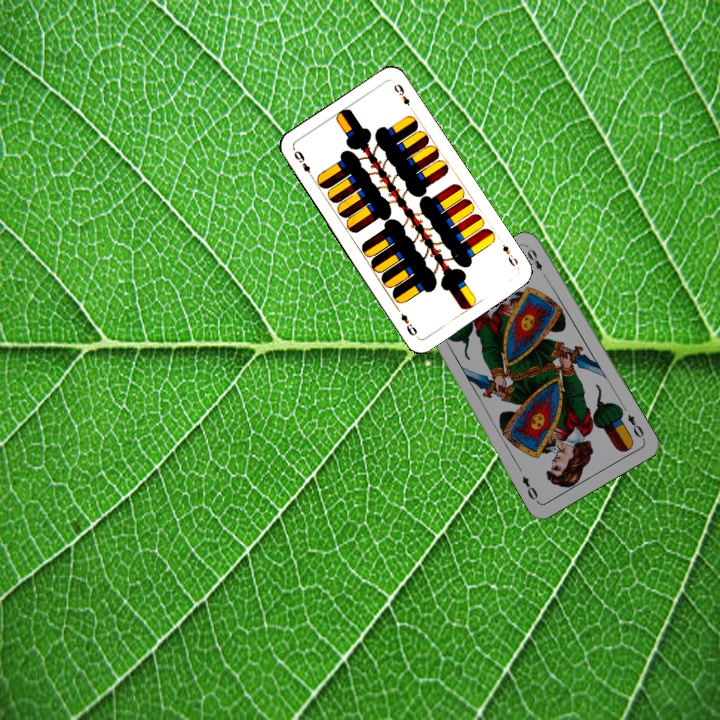E9: (495, 235, 522, 272), (290, 147, 316, 182)
EO: (624, 410, 647, 443)
